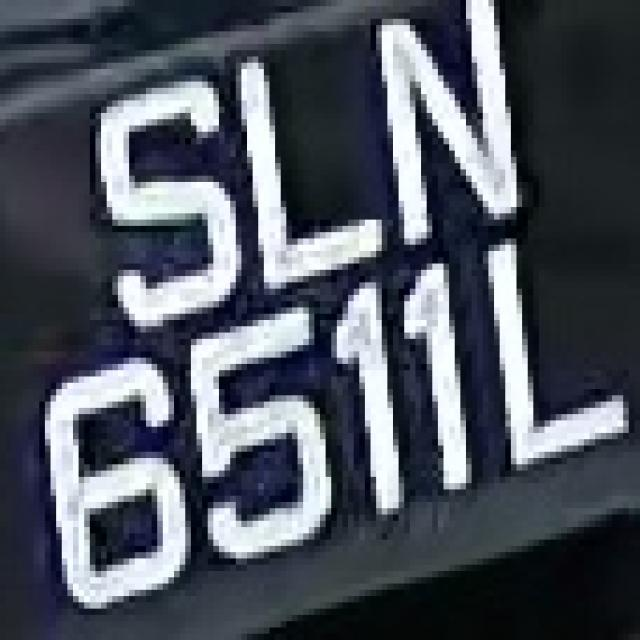1: (371, 257, 477, 502), (326, 295, 404, 527)
5: (180, 314, 336, 558)
6: (11, 351, 197, 634)
L: (472, 232, 634, 458), (242, 44, 388, 282)
N: (359, 12, 556, 226)
S: (84, 76, 247, 327)
